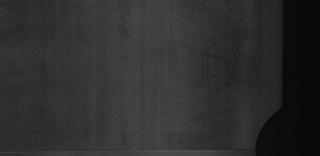welding line: (0, 146, 262, 154)
